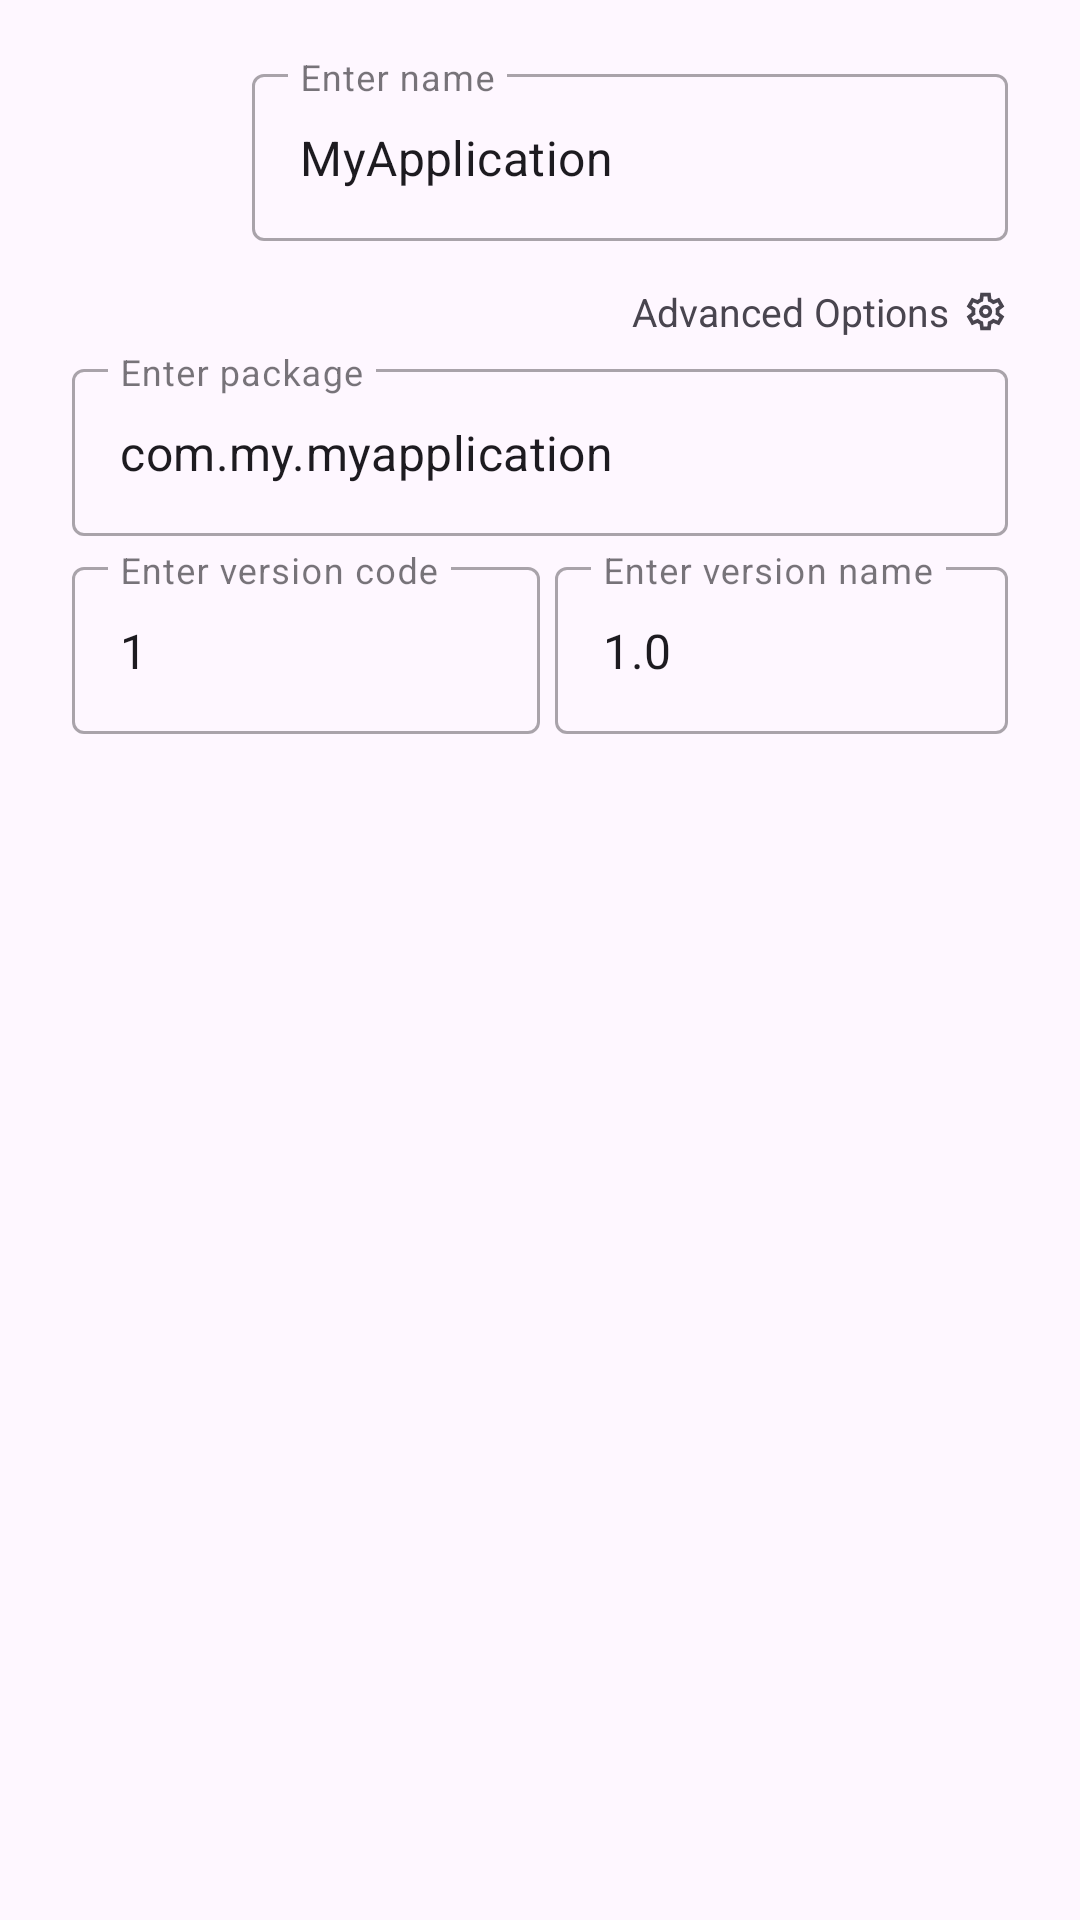

Icons on this 1080 × 1920 Android screen, each with the point to tap as [x,y]:
settings: [985,311]
